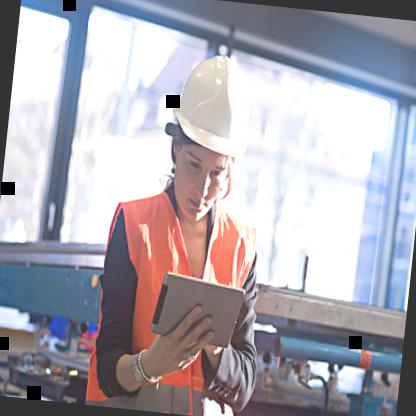helmet: (155, 30, 261, 233)
